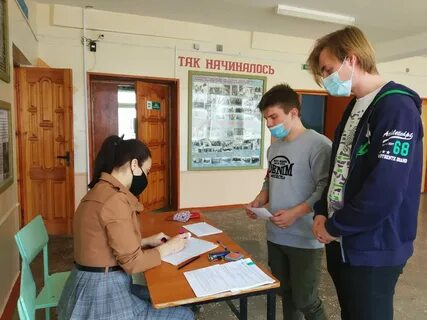students: (307, 24, 423, 320), (71, 135, 197, 319), (245, 83, 335, 319)
